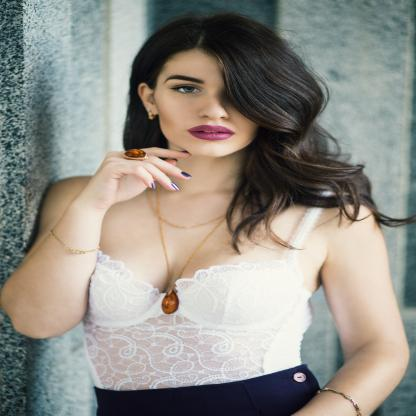Eye: (169, 84, 202, 95)
Mouth: (187, 125, 235, 140)
Nose: (199, 94, 229, 120)
